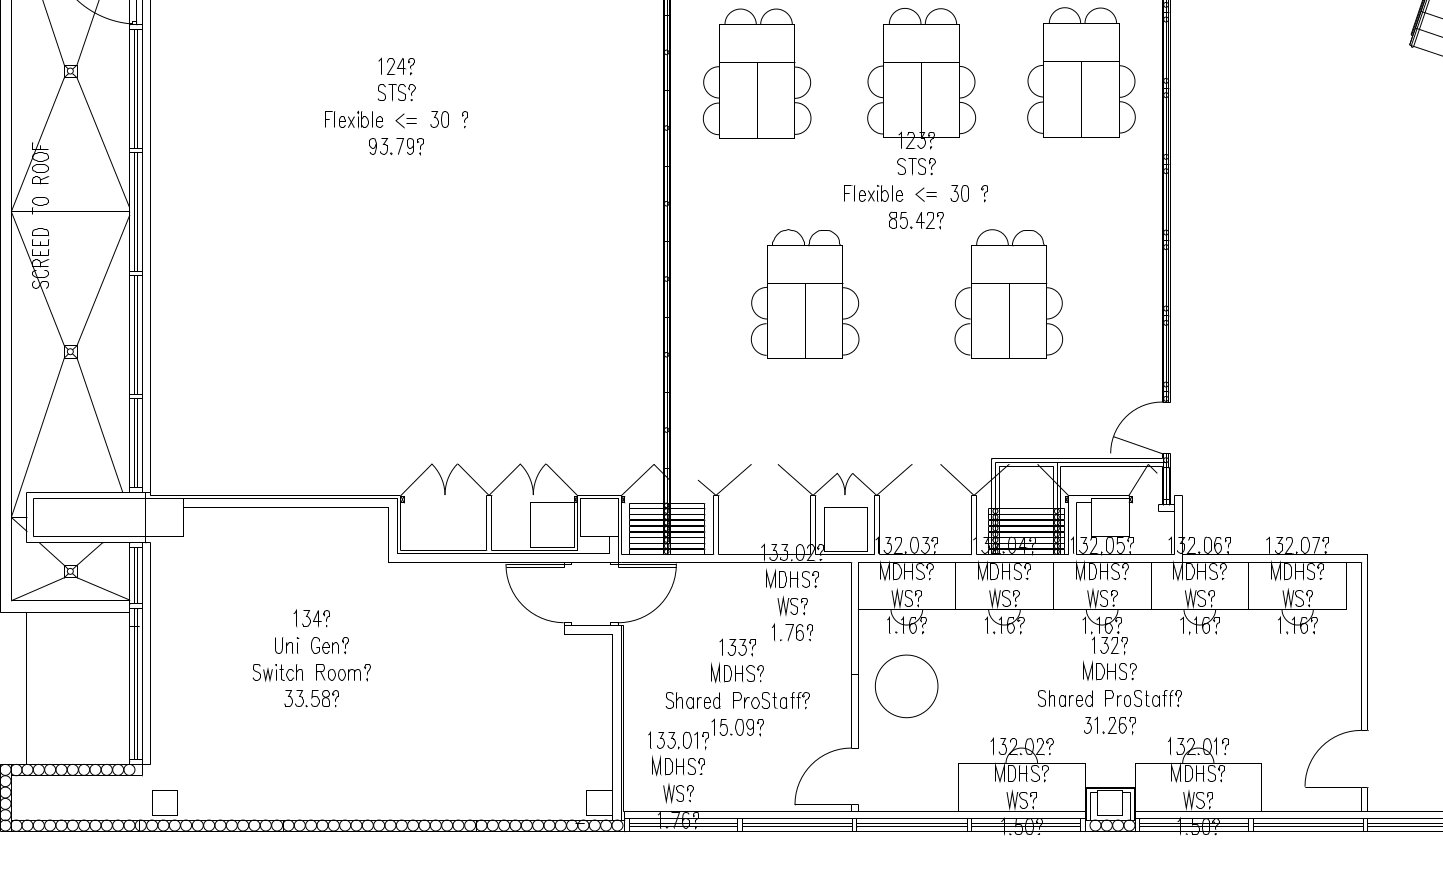door: (490, 436, 580, 500), (399, 436, 489, 500), (788, 743, 857, 809), (617, 563, 680, 627), (504, 563, 567, 627), (1299, 727, 1362, 791)
